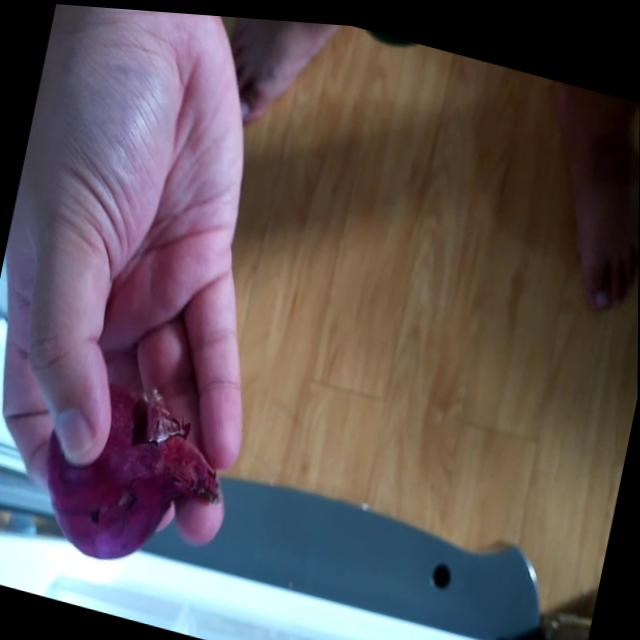onion: (32, 366, 234, 581)
